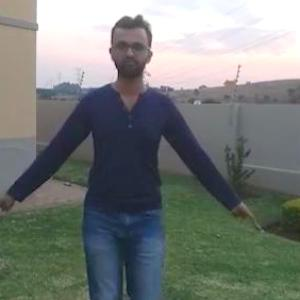land: (14, 27, 238, 299)
